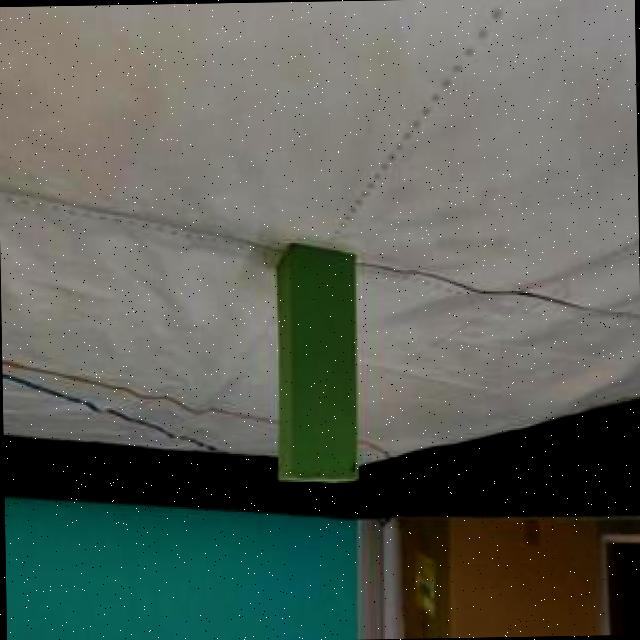greenbox: (274, 238, 359, 482)
